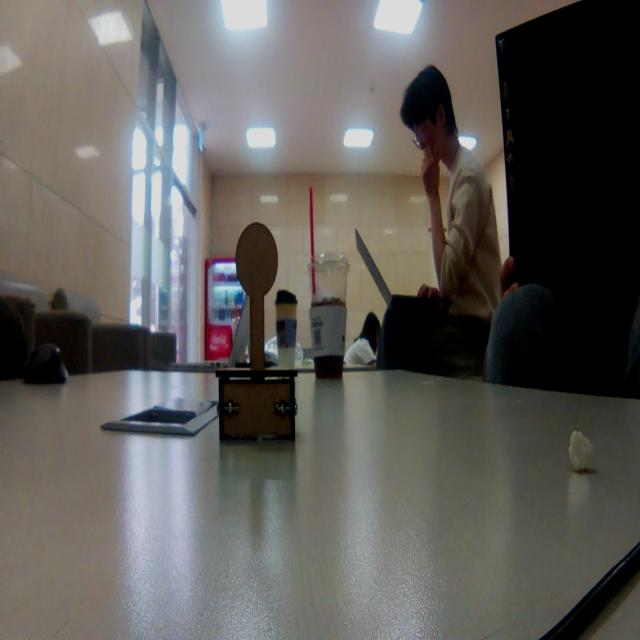target: (215, 223, 298, 443)
